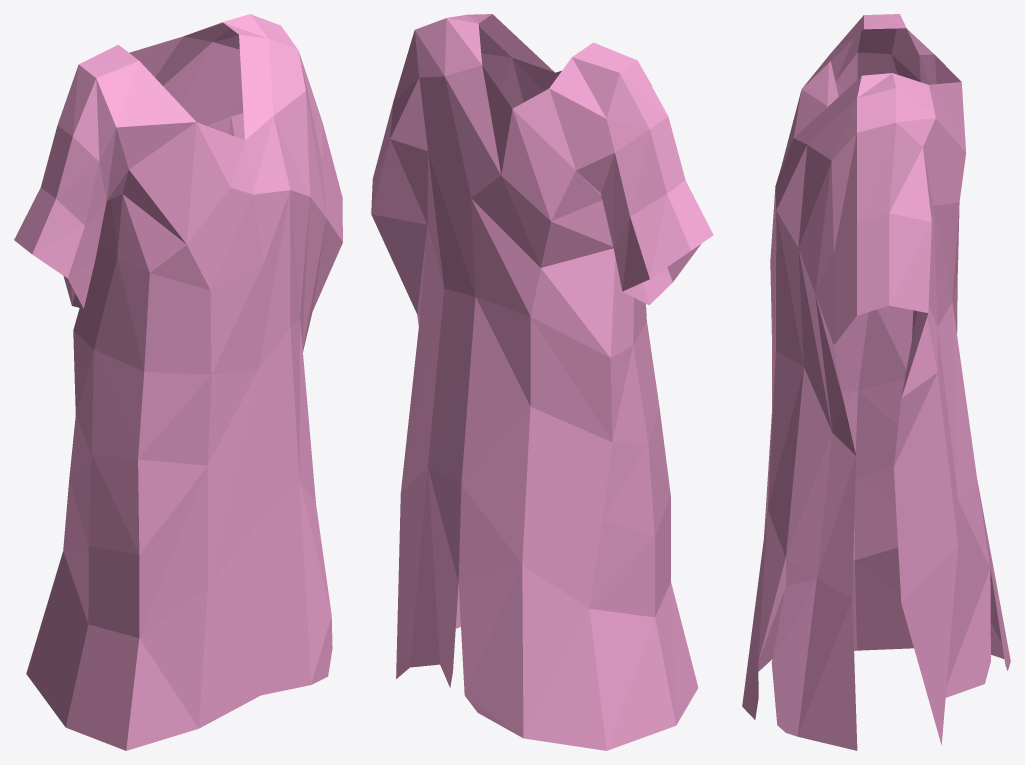
File: ropa.FBX
3 views of the same model, side by side, from view 1: azimuth 30°, elevation 25°; view 2: azimuth 150°, elevation 25°; view 3: azimuth 270°, elevation 25° (orthographic). The views are drawn at different scales.
Parts seen in each view (by area): view 1: bigcape; view 2: bigcape; view 3: bigcape.
Part boxes in pixels (box(x1,y1,x2,y2)): bigcape: box(14, 14, 342, 750); bigcape: box(371, 14, 713, 750); bigcape: box(742, 14, 1010, 750).
Size of the model in its own units: 36.13 by 71.67 by 26.27.
